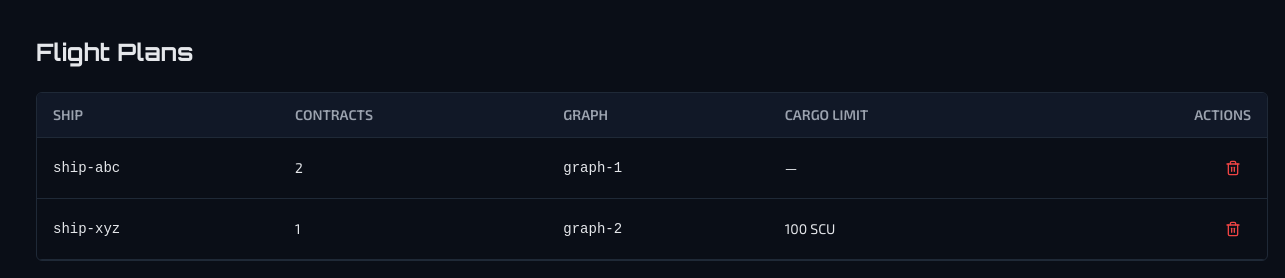
Test: FlightPlanListPage › navigates to detail on row click
Expected: the heading "Flight Plans" is shown, x1=36 y1=36 x2=193 y2=68
What coordinates should you click on to do the following:
click the text "ship-abc"
I would click on:
 (87, 168)
Its box is x1=37 y1=138 x2=279 y2=198.
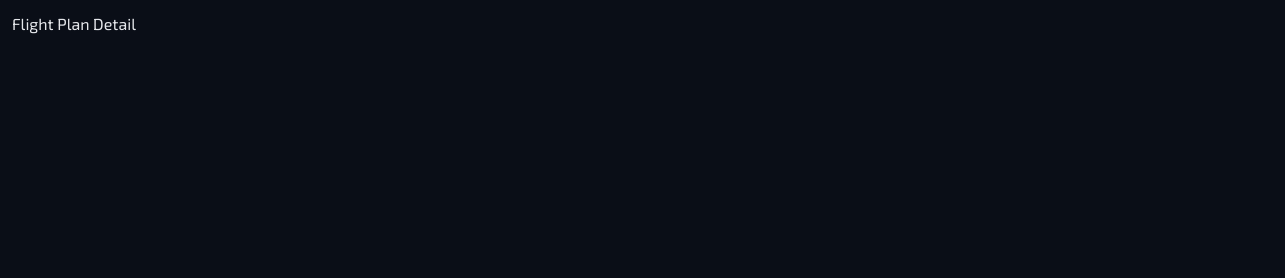
Now the text "Flight Plan Detail" is shown, box x1=12 y1=14 x2=136 y2=33
